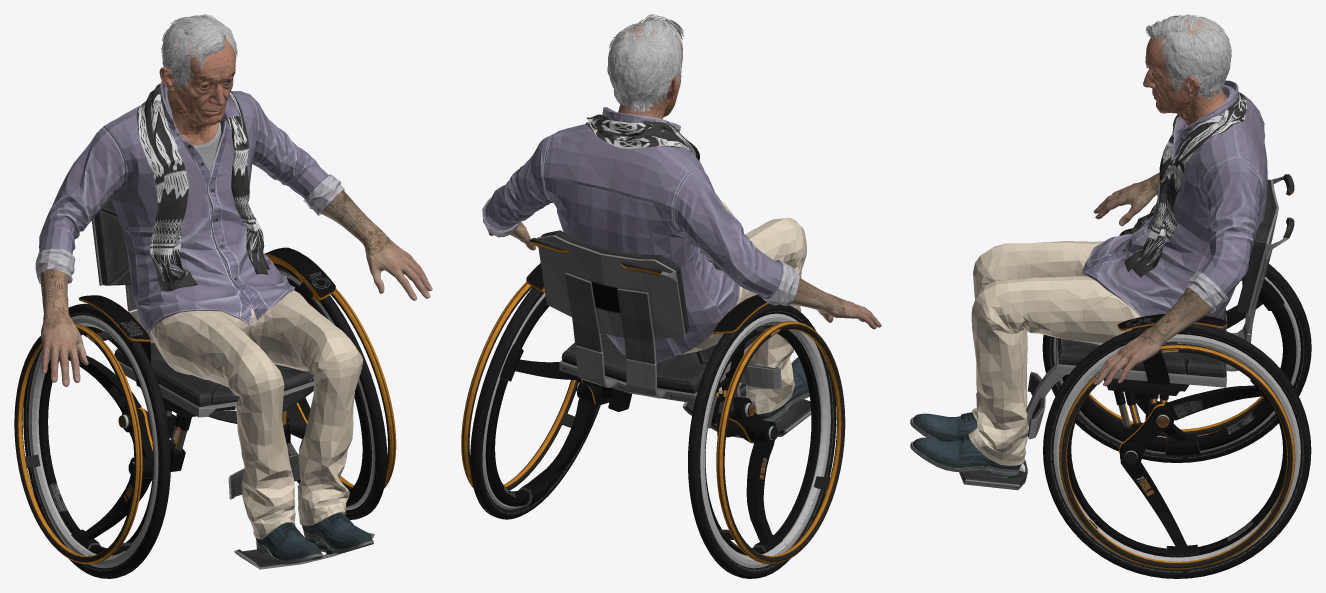
Rendered from real_carl_manfred.glb.
3 renders of one model, left to right at view 1: azimuth 30°, elevation 25°; view 2: azimuth 150°, elevation 25°; view 3: azimuth 270°, elevation 25°, orthographic. The views are drawn at different scales.
Parts seen in each view (by area): view 1: U9M5FGRXTON58PON5RWIMVVJA, U9M5FGRXTON58PON5RWIMVVJA_Modelpart1_part1_base2wheel_Materi, U9M5FGRXTON58PON5RWIMVVJA_Modelpart1_part1_base2_Material003, U9M5FGRXTON58PON5RWIMVVJA_Modelpart1_part1_base1sit_Material, U9M5FGRXTON58PON5RWIMVVJA_Modelpart1_part1_base1_Material001; view 2: U9M5FGRXTON58PON5RWIMVVJA, U9M5FGRXTON58PON5RWIMVVJA_Modelpart1_part1_base2wheel_Materi, U9M5FGRXTON58PON5RWIMVVJA_Modelpart1_part1_base1_Material001, U9M5FGRXTON58PON5RWIMVVJA_Modelpart1_part1_base2_Material003, U9M5FGRXTON58PON5RWIMVVJA_Modelpart1_part1_base1sit_Material; view 3: U9M5FGRXTON58PON5RWIMVVJA, U9M5FGRXTON58PON5RWIMVVJA_Modelpart1_part1_base2wheel_Materi, U9M5FGRXTON58PON5RWIMVVJA_Modelpart1_part1_base2_Material003, U9M5FGRXTON58PON5RWIMVVJA_Modelpart1_part1_base1_Material001, U9M5FGRXTON58PON5RWIMVVJA_Modelpart1_part1_base1sit_Material.
Boxes of the visible parts, bbox=[...] form: U9M5FGRXTON58PON5RWIMVVJA: bbox=[35, 14, 432, 564]; U9M5FGRXTON58PON5RWIMVVJA_Modelpart1_part1_base2wheel_Materi: bbox=[14, 263, 396, 578]; U9M5FGRXTON58PON5RWIMVVJA_Modelpart1_part1_base2_Material003: bbox=[38, 277, 371, 555]; U9M5FGRXTON58PON5RWIMVVJA_Modelpart1_part1_base1sit_Material: bbox=[94, 196, 371, 567]; U9M5FGRXTON58PON5RWIMVVJA_Modelpart1_part1_base1_Material001: bbox=[78, 218, 374, 569]; U9M5FGRXTON58PON5RWIMVVJA: bbox=[482, 14, 881, 423]; U9M5FGRXTON58PON5RWIMVVJA_Modelpart1_part1_base2wheel_Materi: bbox=[461, 282, 845, 578]; U9M5FGRXTON58PON5RWIMVVJA_Modelpart1_part1_base1_Material001: bbox=[526, 235, 811, 438]; U9M5FGRXTON58PON5RWIMVVJA_Modelpart1_part1_base2_Material003: bbox=[485, 296, 820, 555]; U9M5FGRXTON58PON5RWIMVVJA_Modelpart1_part1_base1sit_Material: bbox=[540, 230, 810, 434]; U9M5FGRXTON58PON5RWIMVVJA: bbox=[910, 14, 1267, 478]; U9M5FGRXTON58PON5RWIMVVJA_Modelpart1_part1_base2wheel_Materi: bbox=[1042, 264, 1311, 578]; U9M5FGRXTON58PON5RWIMVVJA_Modelpart1_part1_base2_Material003: bbox=[1062, 279, 1296, 557]; U9M5FGRXTON58PON5RWIMVVJA_Modelpart1_part1_base1_Material001: bbox=[959, 174, 1294, 490]; U9M5FGRXTON58PON5RWIMVVJA_Modelpart1_part1_base1sit_Material: bbox=[960, 180, 1276, 486].
Bounding box in the file's own units: 1.02 × 1.31 × 0.9433.
Materials: 16 (16 with a texture image).
